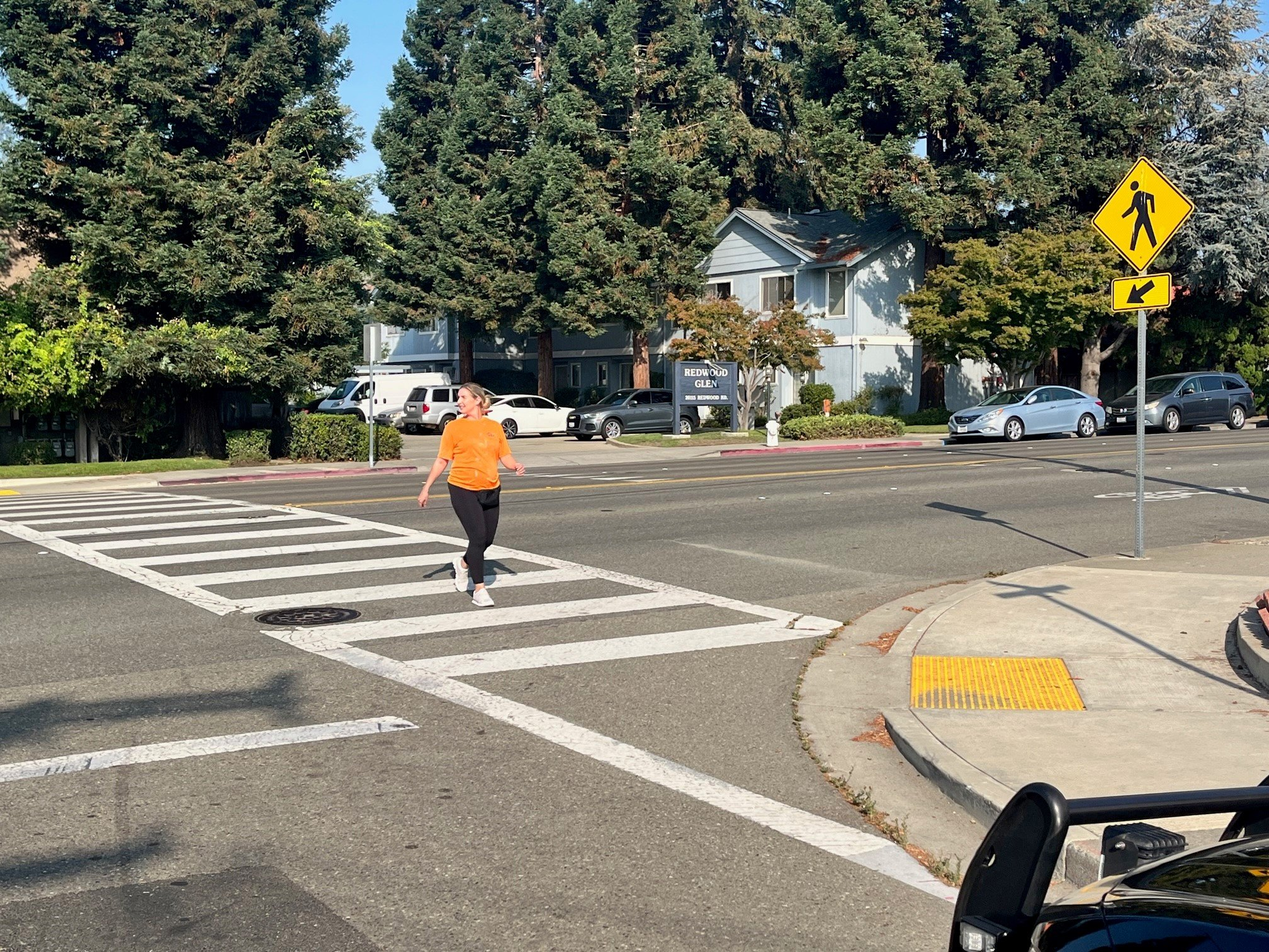Crosswalk: (5, 461, 889, 866)
